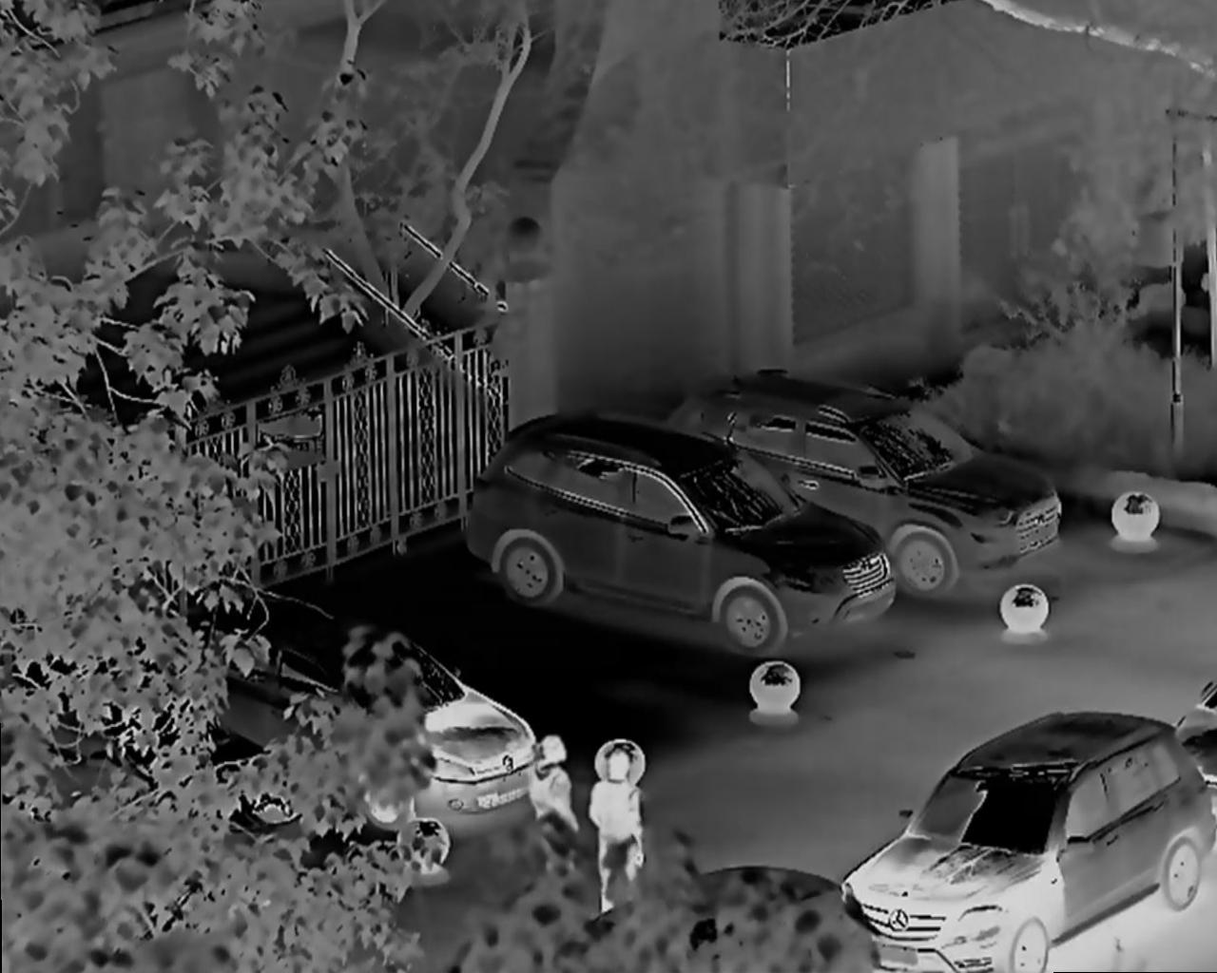person: (580, 744, 659, 887), (526, 740, 589, 886)
